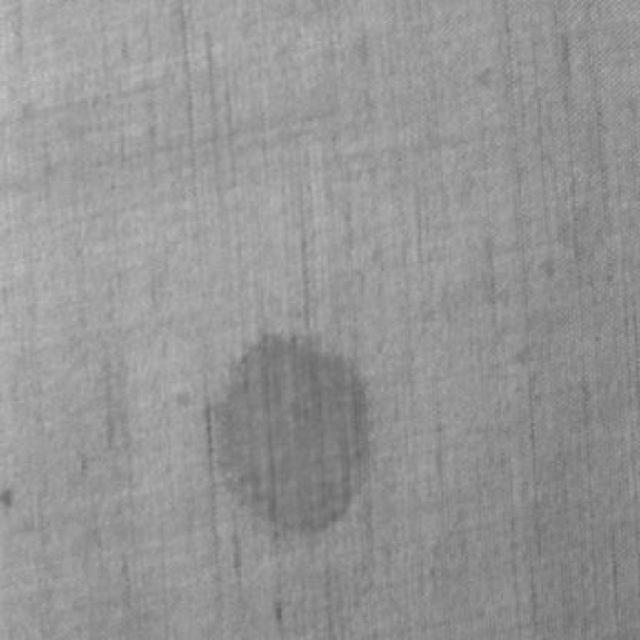Hole: (133, 276, 467, 580)
